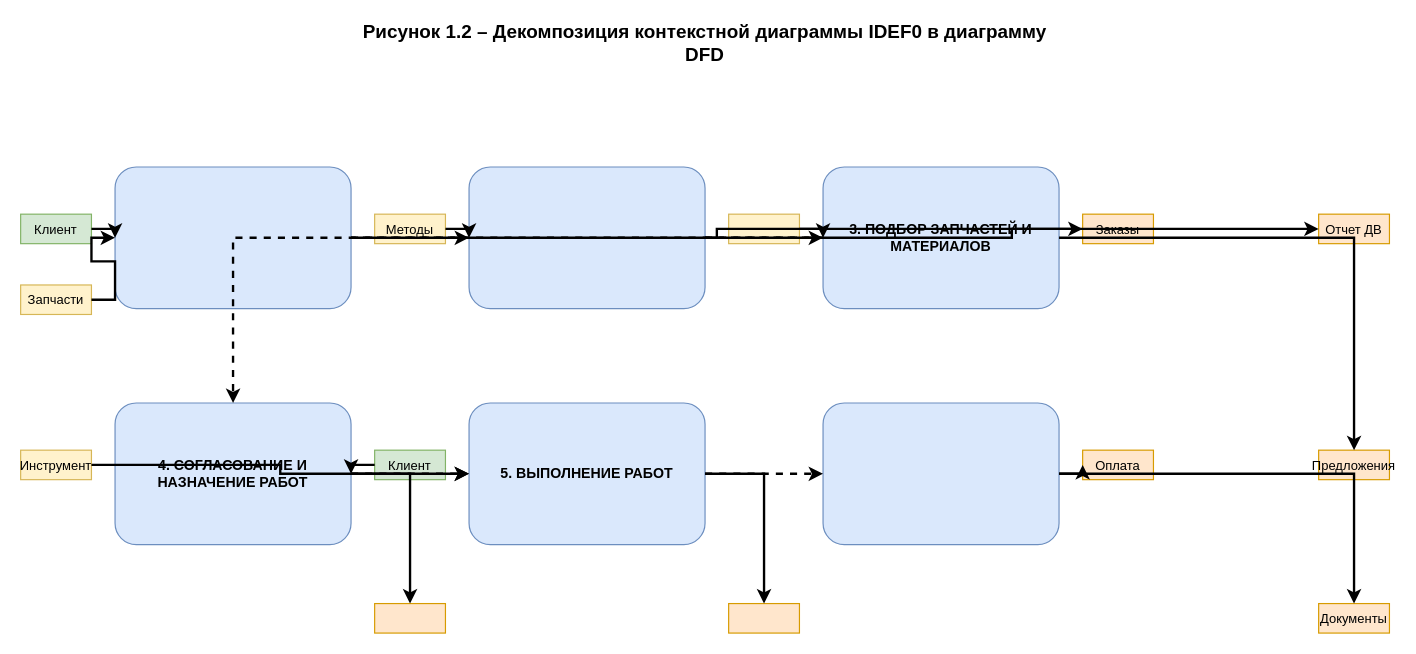
Some shapes in this 1416 by 654 pixel diagram are drawn without their labels. The shapes that lost their labels are listed below. From the top down, each one's centre as x and y in pixels, then its label:
the point at 232,237: 1. ПРИЕМКА И РЕГИСТРАЦИЯ
the point at 586,237: 2. ДИАГНОСТИКА И ВЫЯВЛЕНИЕ НЕИСПРАВНОСТЕЙ
the point at 763,228: Каталоги
the point at 940,473: 6. КОНТРОЛЬ И ВЫДАЧА
the point at 409,617: Заказ-наряд
the point at 763,617: Акт выполнения
